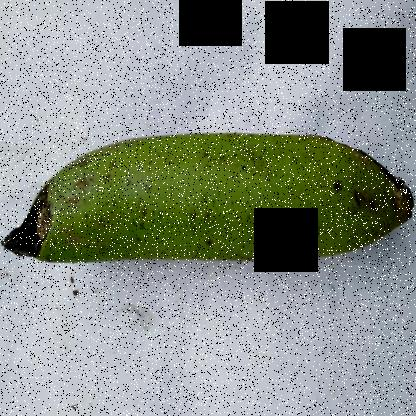unripe: (58, 114, 415, 280)
